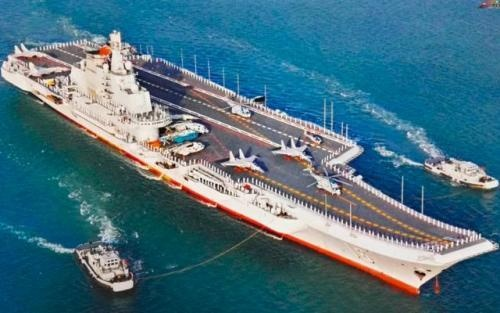otherboat: (422, 145, 500, 191), (79, 235, 138, 293)
warship: (5, 13, 499, 297)
